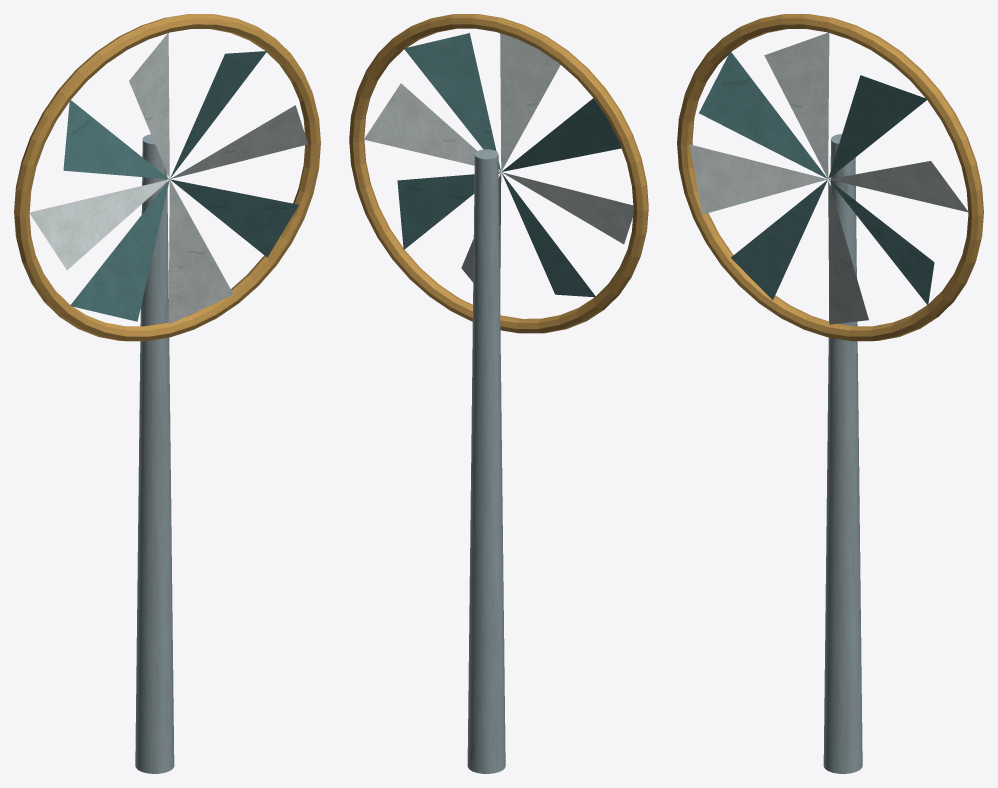
Rendered from WindSpinner.glb.
3 views of the same model, side by side, from view 1: azimuth 30°, elevation 25°; view 2: azimuth 150°, elevation 25°; view 3: azimuth 330°, elevation 25° (orthographic). The views are drawn at different scales.
Visible parts, largest first — view 1: Mast, Rotor rim, Folded vane.005, Folded vane.006, Folded vane.004, Folded vane.007, Folded vane.003, Folded vane, Folded vane.002, Folded vane.001; view 2: Mast, Rotor rim, Folded vane.001, Folded vane.002, Folded vane, Folded vane.003, Folded vane.007, Folded vane.004, Folded vane.005, Folded vane.006; view 3: Mast, Rotor rim, Folded vane.003, Folded vane.002, Folded vane.004, Folded vane.001, Folded vane.005, Folded vane, Folded vane.006, Folded vane.007.
Boxes of the visible parts, left/top/right/bottom form: Mast: left=135, top=134, right=174, bottom=773; Rotor rim: left=14, top=14, right=320, bottom=341; Folded vane.005: left=70, top=180, right=169, bottom=321; Folded vane.006: left=168, top=179, right=233, bottom=324; Folded vane.004: left=29, top=179, right=169, bottom=269; Folded vane.007: left=170, top=179, right=298, bottom=257; Folded vane.003: left=63, top=100, right=169, bottom=179; Folded vane: left=171, top=105, right=307, bottom=178; Folded vane.002: left=129, top=33, right=169, bottom=178; Folded vane.001: left=170, top=51, right=266, bottom=178; Mast: left=467, top=149, right=505, bottom=773; Rotor rim: left=349, top=14, right=648, bottom=333; Folded vane.001: left=404, top=33, right=500, bottom=171; Folded vane.002: left=500, top=33, right=560, bottom=171; Folded vane: left=364, top=83, right=500, bottom=171; Folded vane.003: left=502, top=98, right=621, bottom=171; Folded vane.007: left=397, top=172, right=500, bottom=249; Folded vane.004: left=502, top=172, right=633, bottom=244; Folded vane.005: left=502, top=173, right=595, bottom=297; Folded vane.006: left=461, top=172, right=501, bottom=296; Mast: left=823, top=134, right=862, bottom=773; Rotor rim: left=677, top=14, right=983, bottom=341; Folded vane.003: left=699, top=51, right=827, bottom=178; Folded vane.002: left=764, top=32, right=829, bottom=178; Folded vane.004: left=689, top=144, right=827, bottom=214; Folded vane.001: left=828, top=75, right=926, bottom=178; Folded vane.005: left=731, top=180, right=827, bottom=299; Folded vane: left=829, top=161, right=968, bottom=212; Folded vane.006: left=828, top=180, right=868, bottom=324; Folded vane.007: left=829, top=180, right=934, bottom=305.
Bounding box in the file's own units: 1.53 × 3.62 × 0.315.
4 materials, 4 textured.
